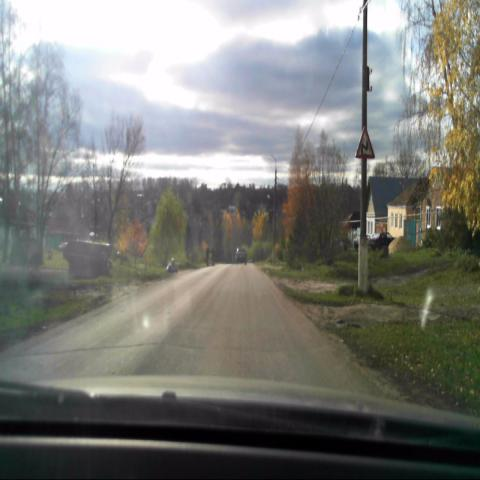1_12: (356, 125, 376, 160)
